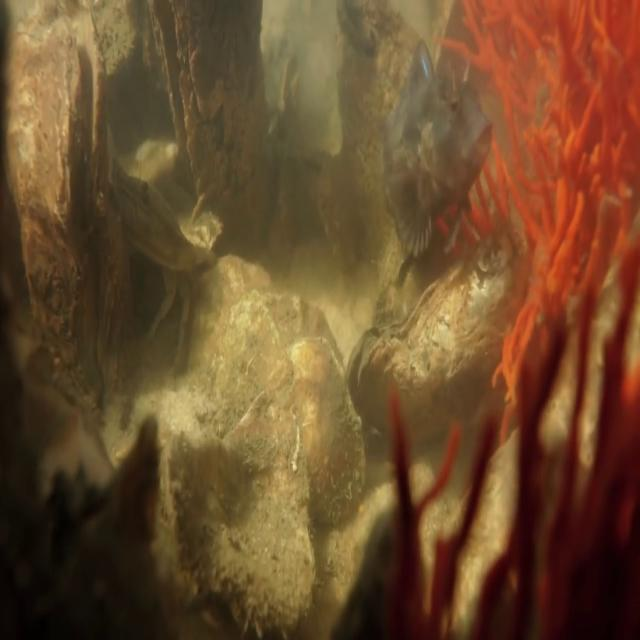Oyster-Closed: (2, 4, 137, 422), (344, 230, 531, 444)
Oyster-Indeterminate: (288, 332, 370, 532)
Oyster-Open: (139, 1, 277, 255)
